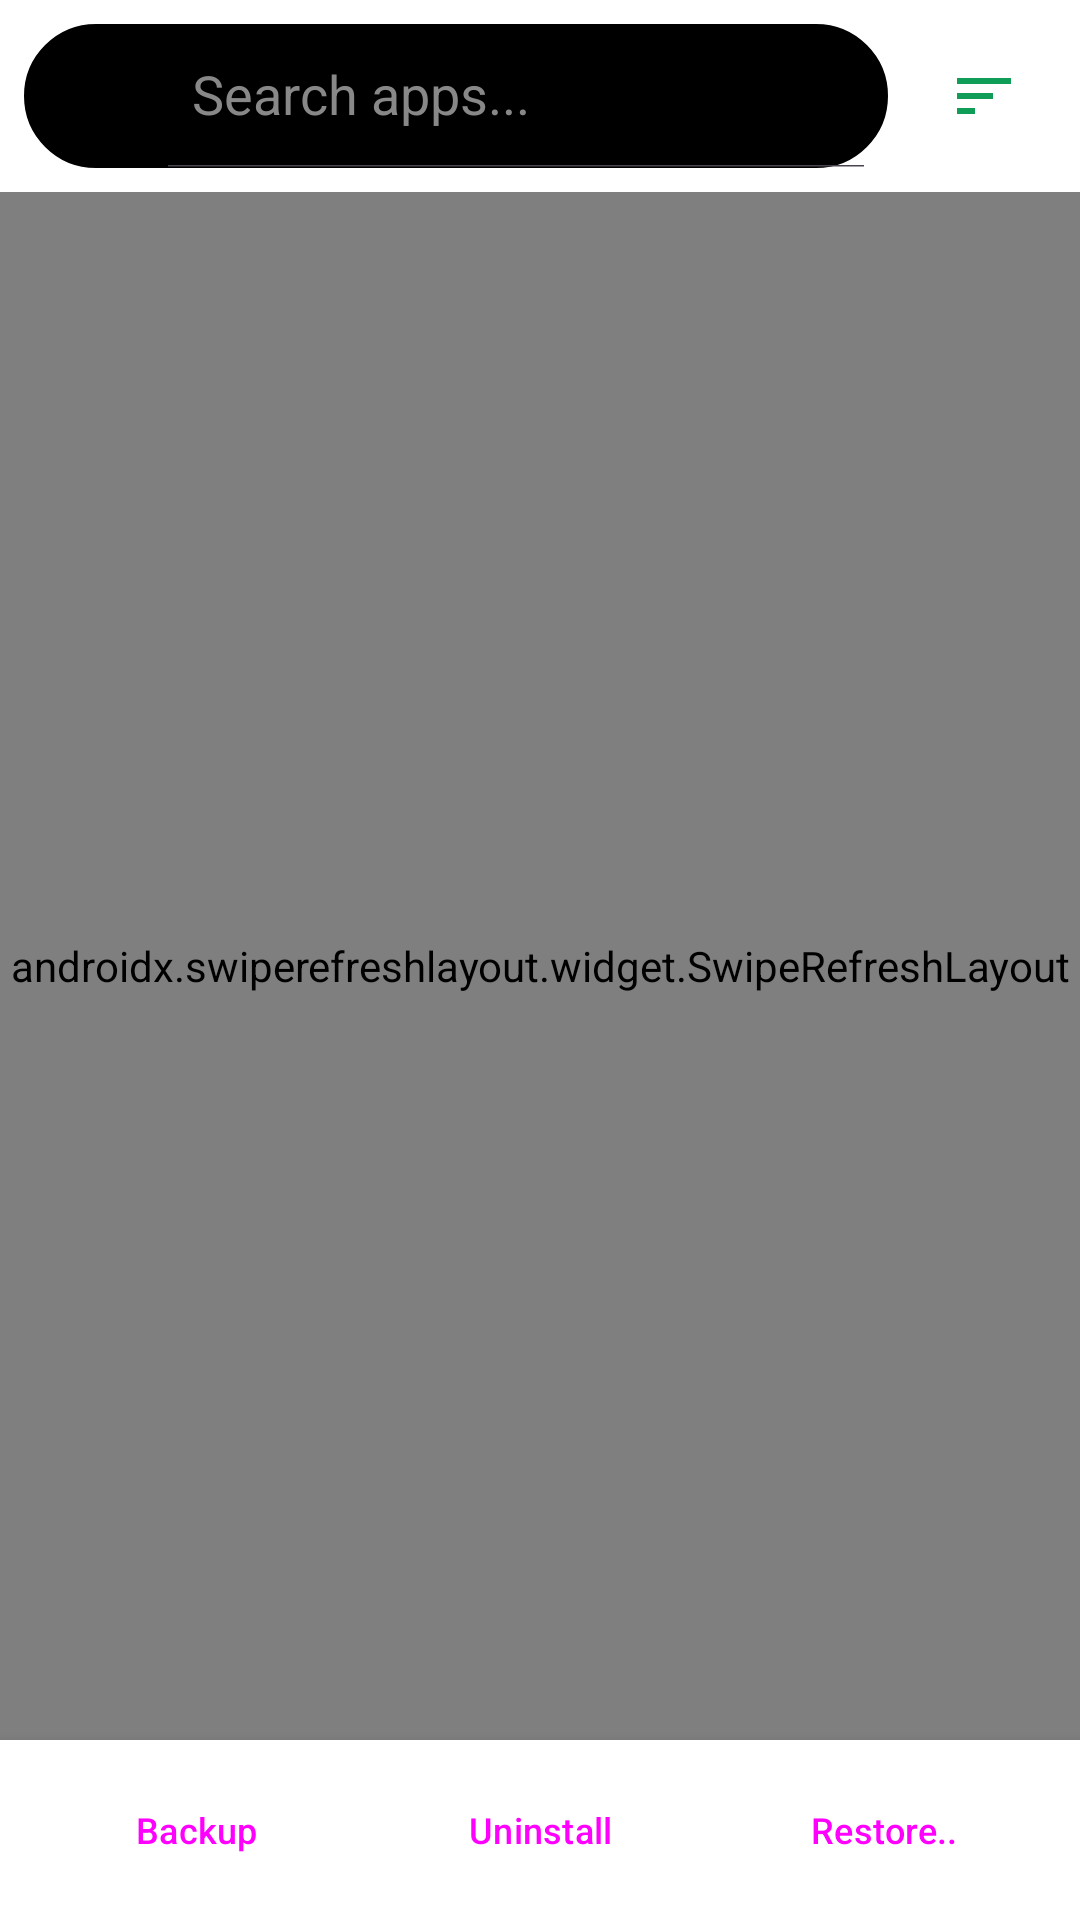

Icon bounding boxes for this 1080×1920 phone screenshot, format BBox(x1, y1, x2, y2):
Sort By: BBox(957, 78, 1011, 114)
